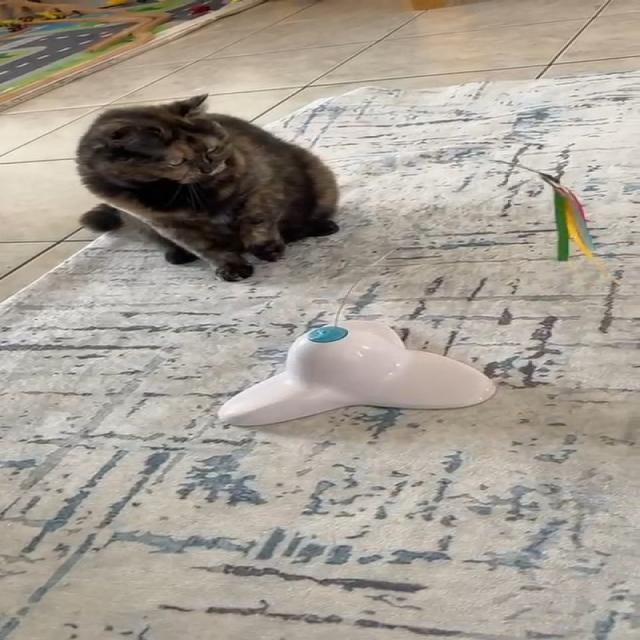authorized: (73, 92, 340, 282)
